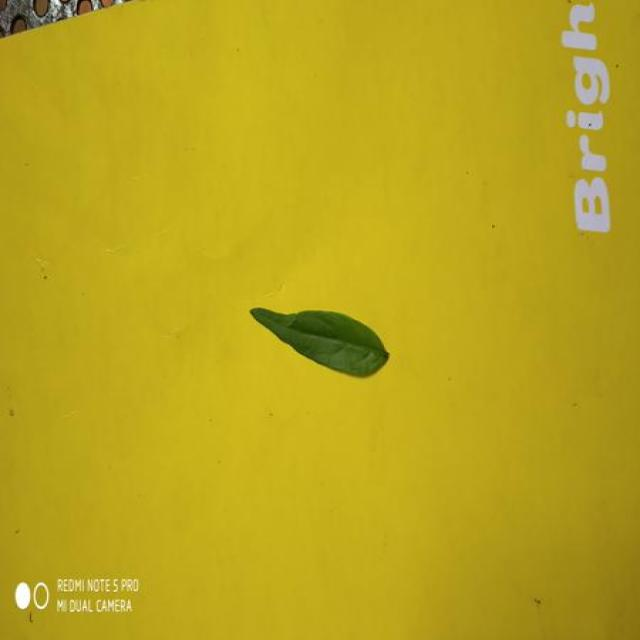Nelavembu: (250, 308, 388, 377)
